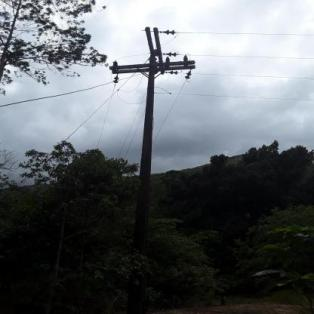Poste: (132, 51, 162, 237)
